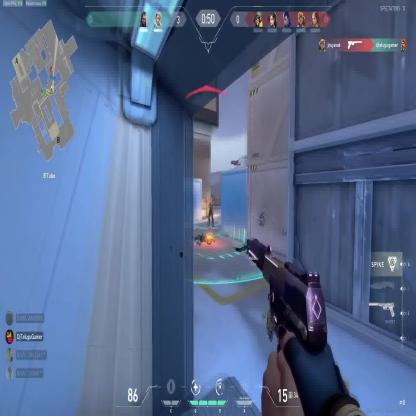enemy: (208, 196, 214, 227)
enemy_head: (209, 198, 212, 202)
